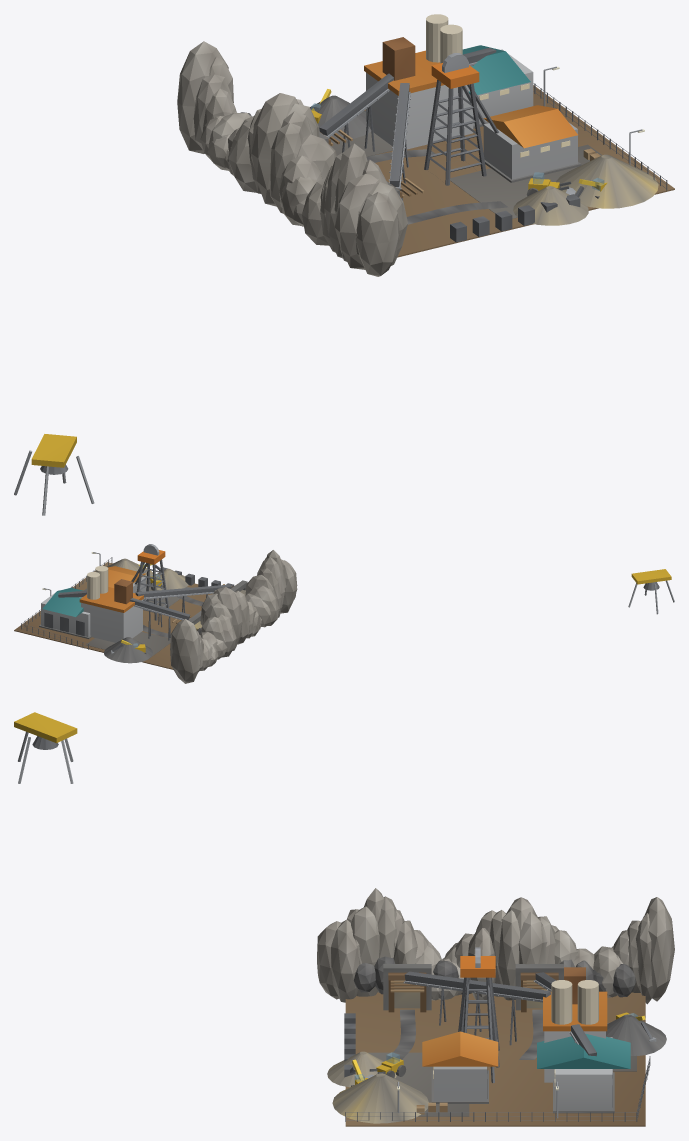
File: Mine_P2.fbx
3 views of the same model, one above another, from view 1: azimuth 30°, elevation 25°; view 2: azimuth 150°, elevation 25°; view 3: azimuth 270°, elevation 25° (orthographic). The views are drawn at different scales.
Visible parts, largest first — view 1: Mine.Cliff, Mine.Apron, Mine.Plant, Mine.Winder, Mine.Headframe, Mine.Spoil0, Mine.Crusher, Mine.LoadGantry, Mine.Spoil1, Mine.Clutter, Mine.Conv1, Mine.Conv0 (+3 smaller); view 2: Mine.Cliff, Mine.Plant, Mine.Apron, Mine.Crusher, Mine.Headframe, Mine.Spoil2, Mine.Conv0, Mine.LoadGantry, Mine.Conv1, Mine.Winder, Mine.Fence, Mine.Spoil1 (+2 smaller); view 3: Mine.Cliff, Mine.Apron, Mine.Crusher, Mine.Winder, Mine.Plant, Mine.Spoil0, Mine.Conv0, Mine.Headframe, Mine.Adit0, Mine.LoadGantry, Mine.Spoil2, Mine.Fence (+4 smaller).
Part boxes in pixels (x1,y1,x2,y2): Mine.Cliff: (177, 41, 407, 276); Mine.Apron: (331, 85, 674, 257); Mine.Plant: (364, 14, 473, 149); Mine.Winder: (483, 105, 581, 182); Mine.Headframe: (424, 53, 498, 185); Mine.Spoil0: (556, 154, 658, 208); Mine.Crusher: (462, 45, 533, 128); Mine.LoadGantry: (14, 434, 94, 515); Mine.Spoil1: (513, 186, 588, 225); Mine.Clutter: (450, 148, 600, 242); Mine.Conv1: (319, 73, 393, 152); Mine.Conv0: (388, 83, 410, 200); Mine.Cliff: (170, 550, 297, 683); Mine.Plant: (79, 566, 143, 642); Mine.Apron: (14, 562, 212, 669); Mine.Crusher: (39, 587, 91, 638); Mine.Headframe: (131, 544, 169, 620); Mine.Spoil2: (104, 637, 152, 663); Mine.Conv0: (135, 584, 231, 627); Mine.LoadGantry: (628, 569, 674, 614); Mine.Conv1: (130, 598, 189, 640); Mine.Winder: (108, 566, 146, 600); Mine.Fence: (21, 557, 112, 649); Mine.Spoil1: (155, 568, 188, 590); Mine.Cliff: (317, 888, 674, 1004); Mine.Apron: (345, 992, 645, 1126); Mine.Crusher: (537, 1033, 630, 1113); Mine.Winder: (422, 1031, 498, 1103); Mine.Plant: (543, 967, 607, 1082); Mine.Spoil0: (332, 1073, 428, 1123); Mine.Conv0: (403, 971, 550, 1045); Mine.Headframe: (458, 947, 499, 1083); Mine.Adit0: (383, 964, 431, 1012); Mine.LoadGantry: (14, 712, 77, 783); Mine.Spoil2: (606, 1014, 666, 1055); Mine.Fence: (345, 1056, 650, 1121).
Bounding box in the file's own units: 19695 × 3100 × 14982.
